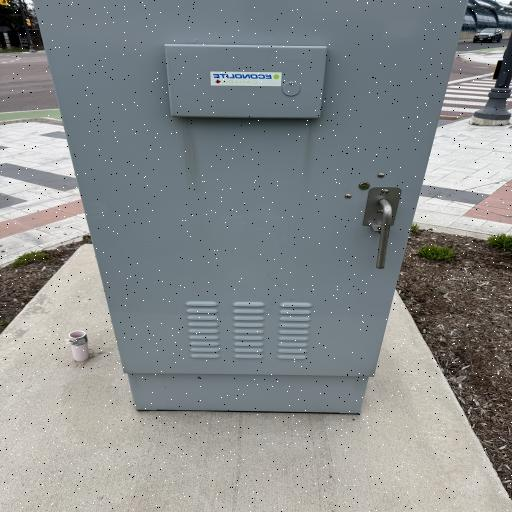Electrical Box: (30, 0, 475, 415)
